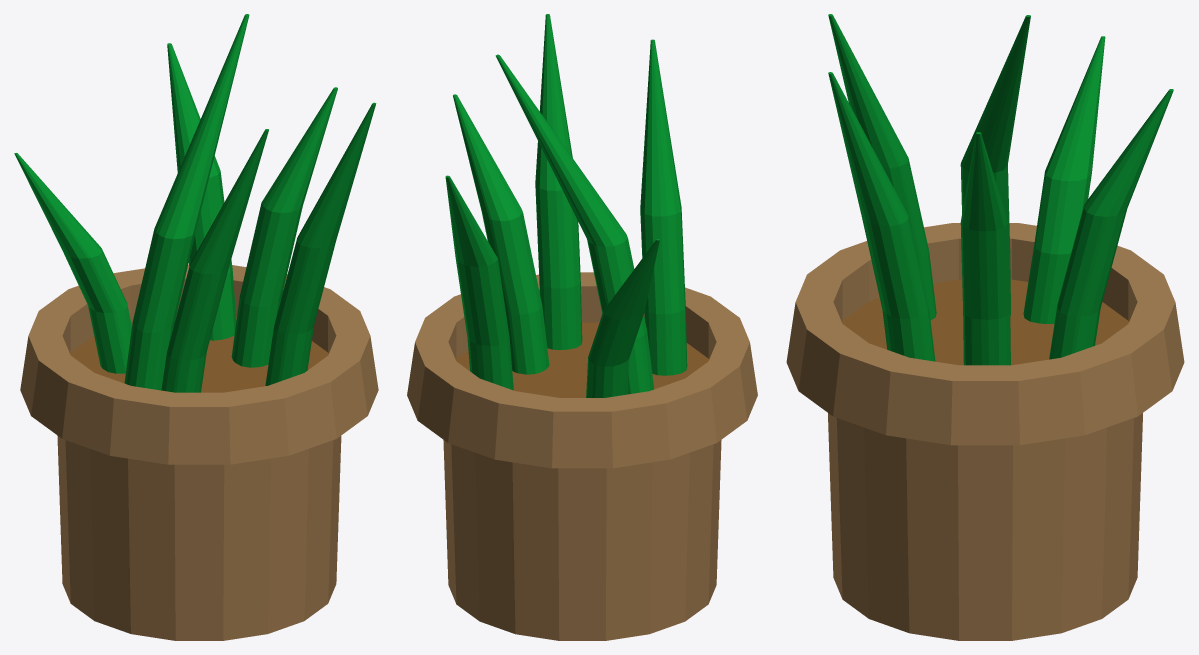
The model's file is Tree Pot_1.fbx.
The picture shows the model from 3 angles, left to right: view 1: azimuth 30°, elevation 25°; view 2: azimuth 150°, elevation 25°; view 3: azimuth 270°, elevation 25°; orthographic projection. The views are drawn at different scales.
Visible parts, largest first — view 1: Tree Pot_1; view 2: Tree Pot_1; view 3: Tree Pot_1.
Part boxes in pixels (bbox=[...]): Tree Pot_1: bbox=[14, 14, 378, 640]; Tree Pot_1: bbox=[407, 14, 757, 640]; Tree Pot_1: bbox=[786, 14, 1184, 640].
Size of the model in its own units: 0.225 by 0.3787 by 0.2285.
